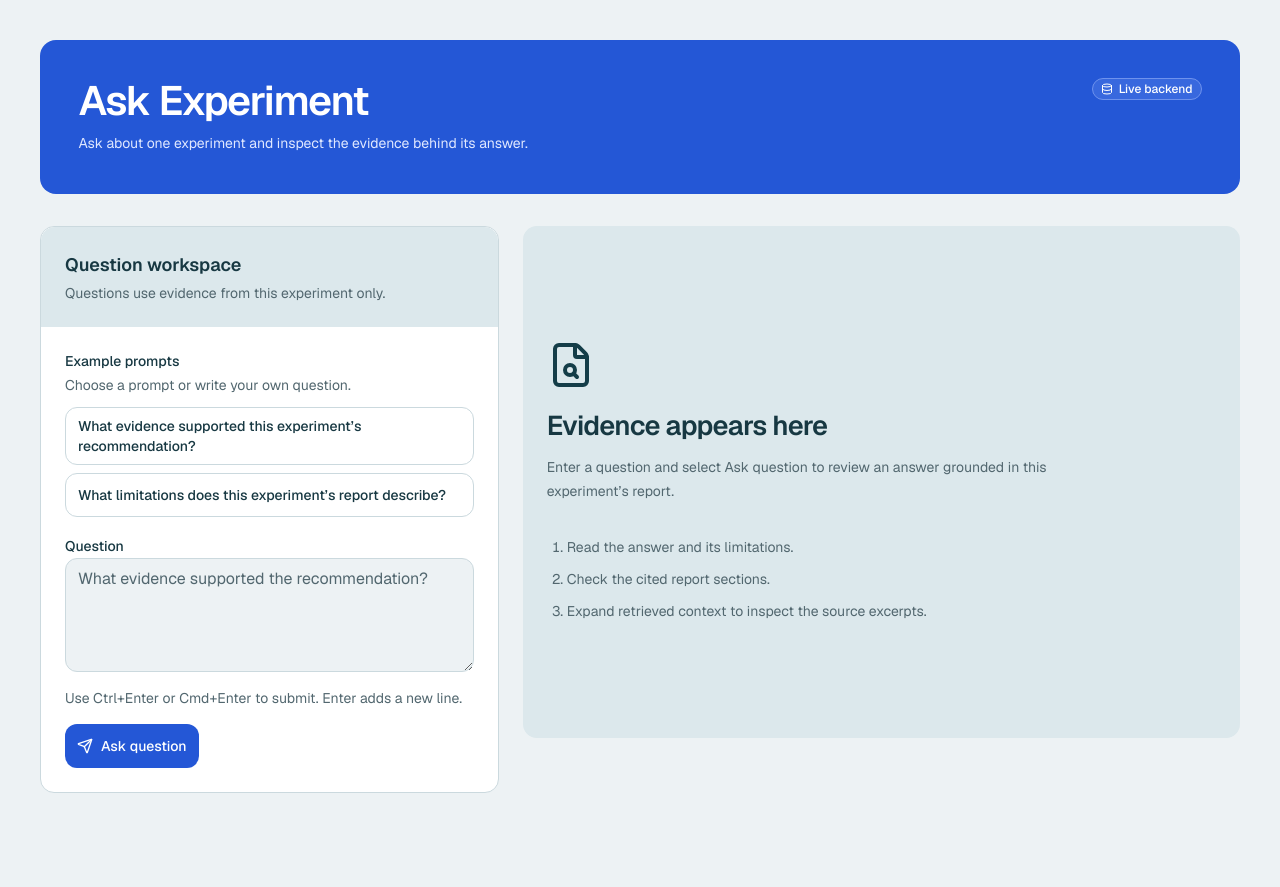
Test: Ask recovery and context integrity › keeps arbitrary single-experiment questions available in live mode
The width and height of the screenshot is (1280, 887).
Type "Why did this experiment stop?" into the text box labelled "Question" at {"x": 269, "y": 615}, box [65,558,474,672]
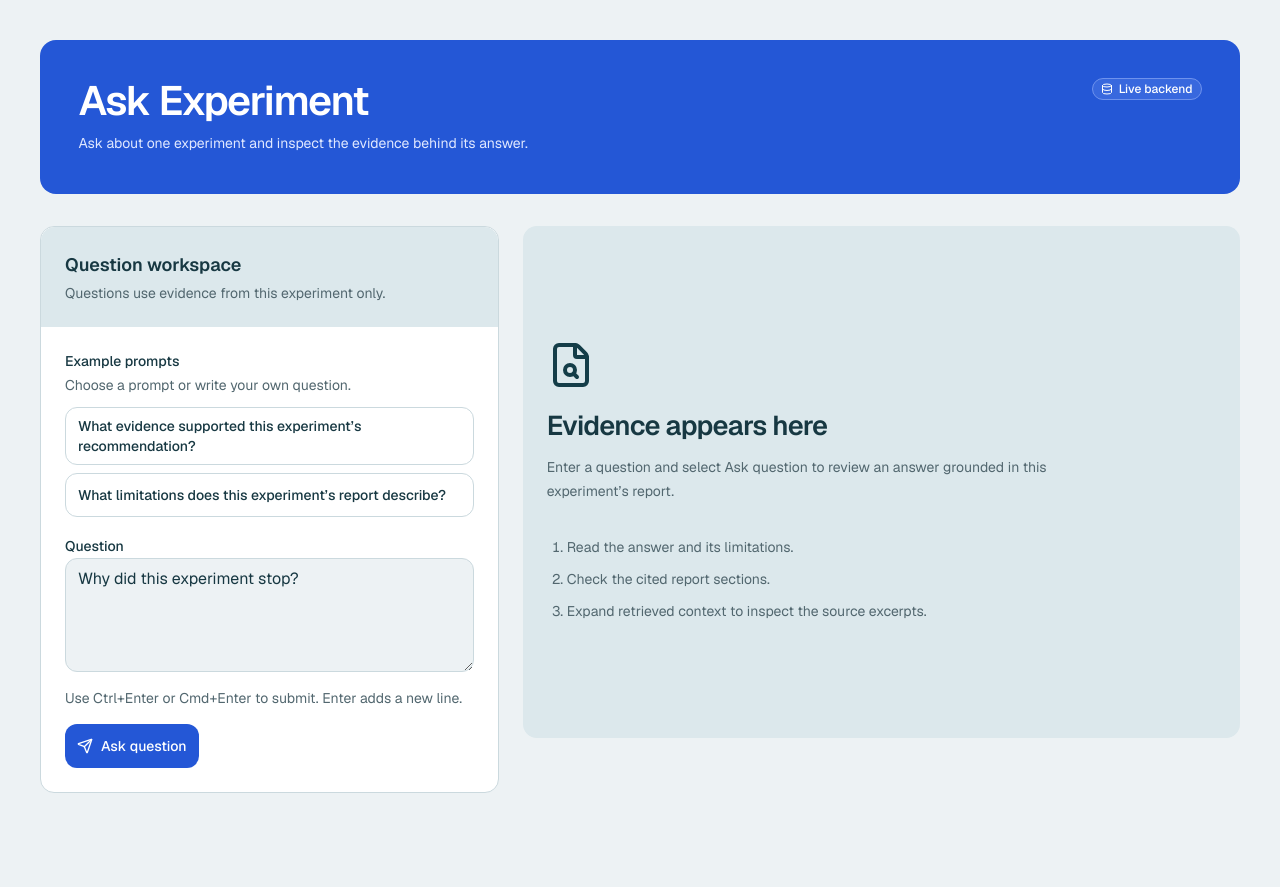
Click the button "Ask question" at {"x": 132, "y": 746}, box [65,724,199,768]
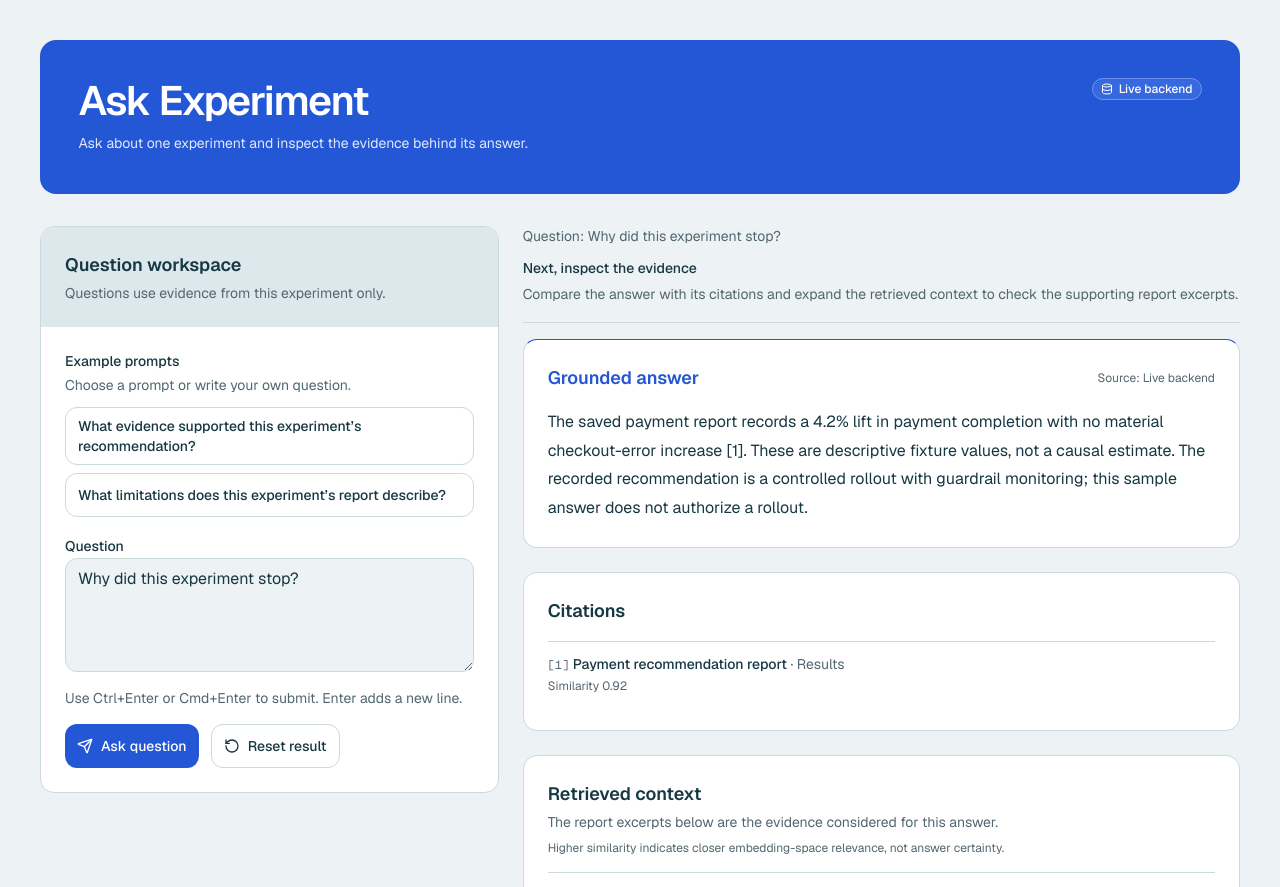
Expected: the heading "Grounded answer" is shown, [548,364,699,392]
